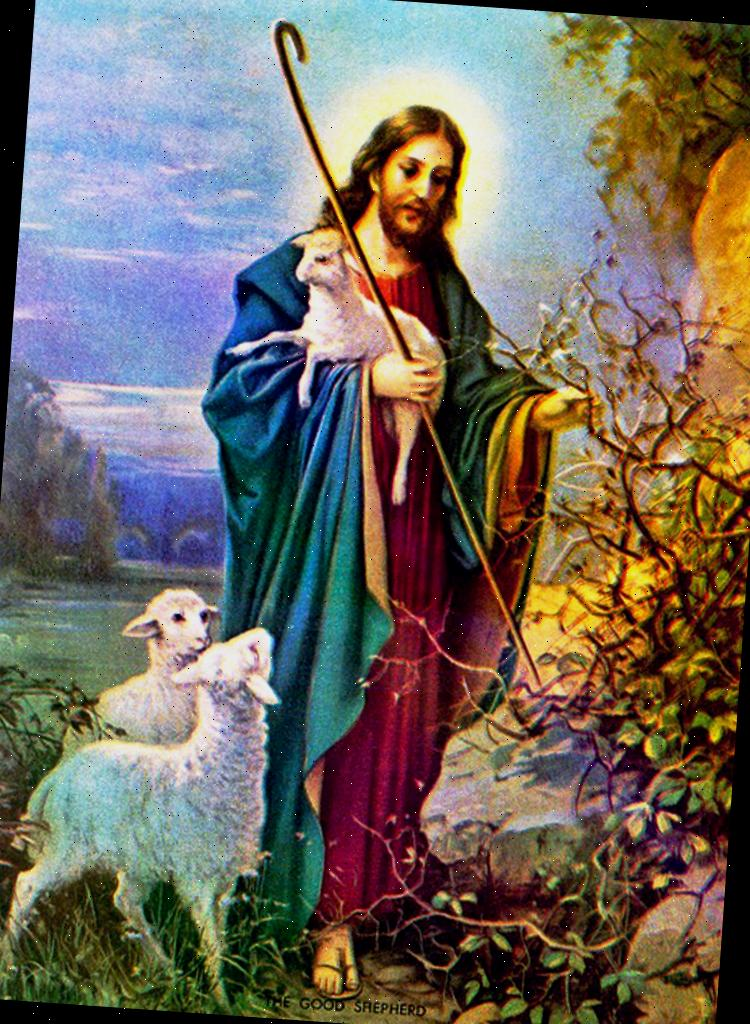Sheep: (0, 609, 290, 1016), (60, 579, 228, 754)
